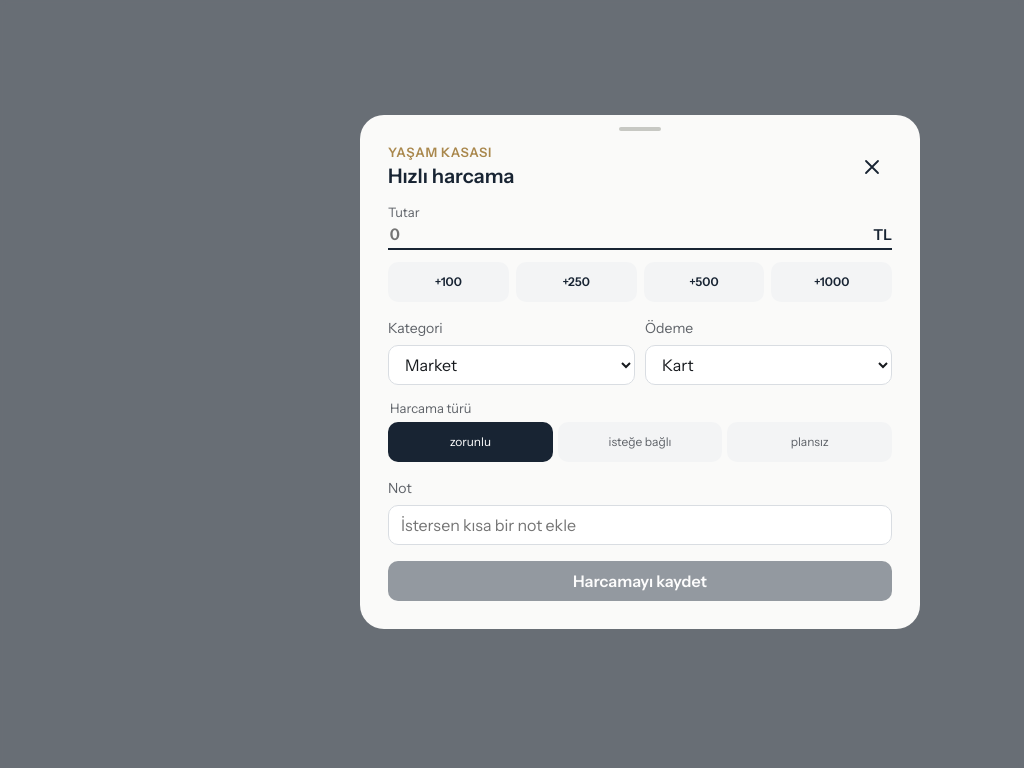
Test: QuickExpenseSheet › shows inline error on save with invalid amount
Expected: the button "Harcamayı kaydet" is disabled, x1=388 y1=561 x2=892 y2=601
// Enter a valid amount, save should work and close
Type "500" into the field named "Harcama tutarı" at [631, 234], box x1=388 y1=223 x2=873 y2=245
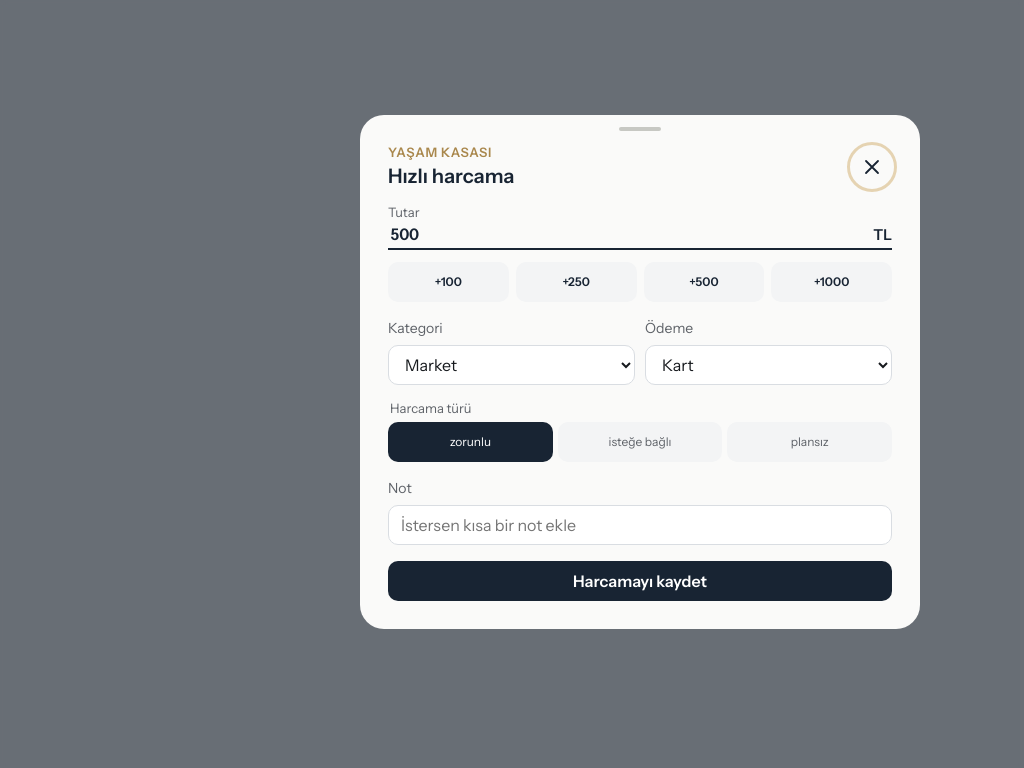
Result: the button "Harcamayı kaydet" is enabled at x1=388 y1=561 x2=892 y2=601
